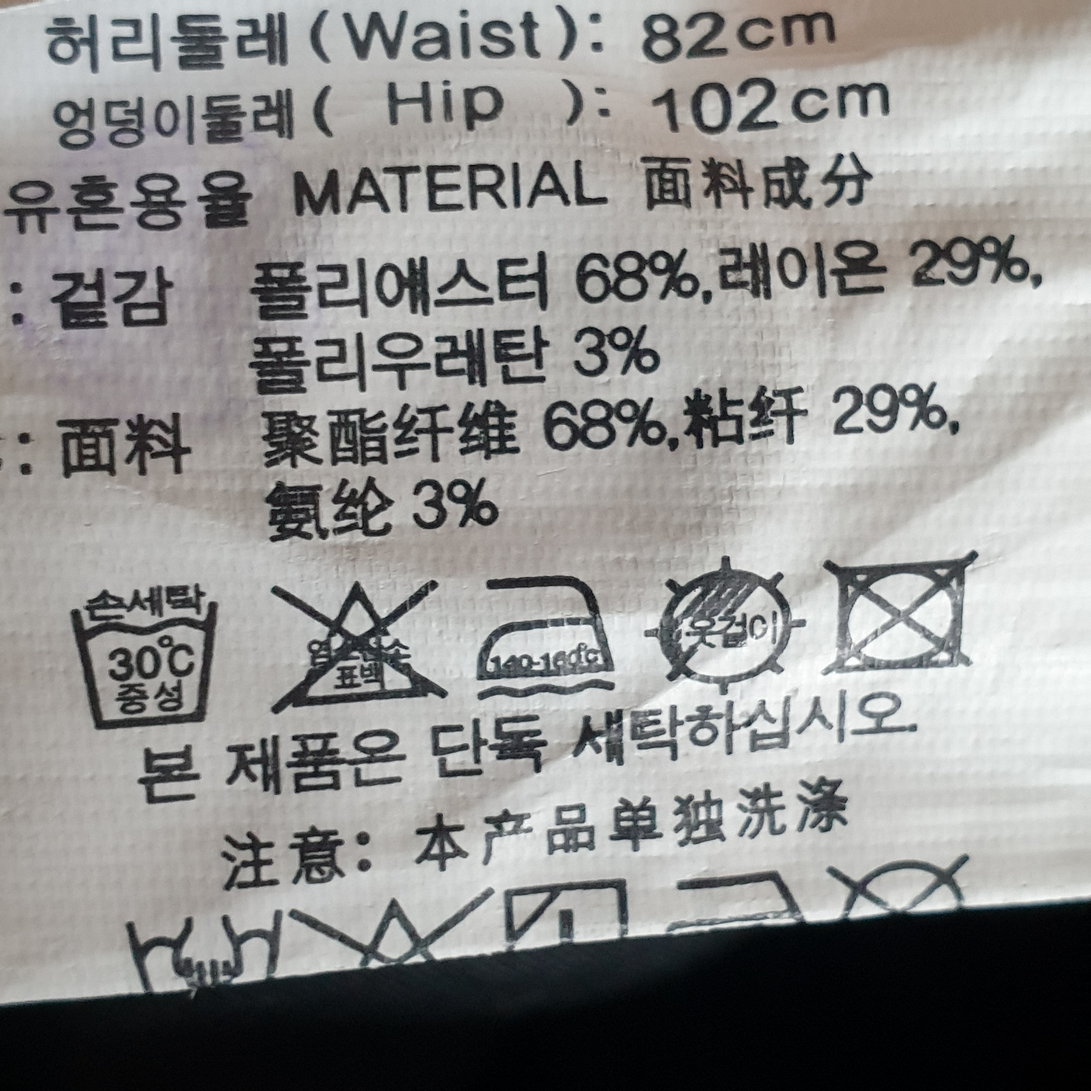KR_hand_wash_30_neutral: (58, 570, 223, 737)
KR_hang_dry_in_shade: (641, 551, 809, 694)
KR_iron_medium_temp_with_cloth: (457, 565, 625, 707)
KR_no_bleach: (266, 570, 452, 714)
KR_no_tumble_dry: (819, 552, 980, 684)
